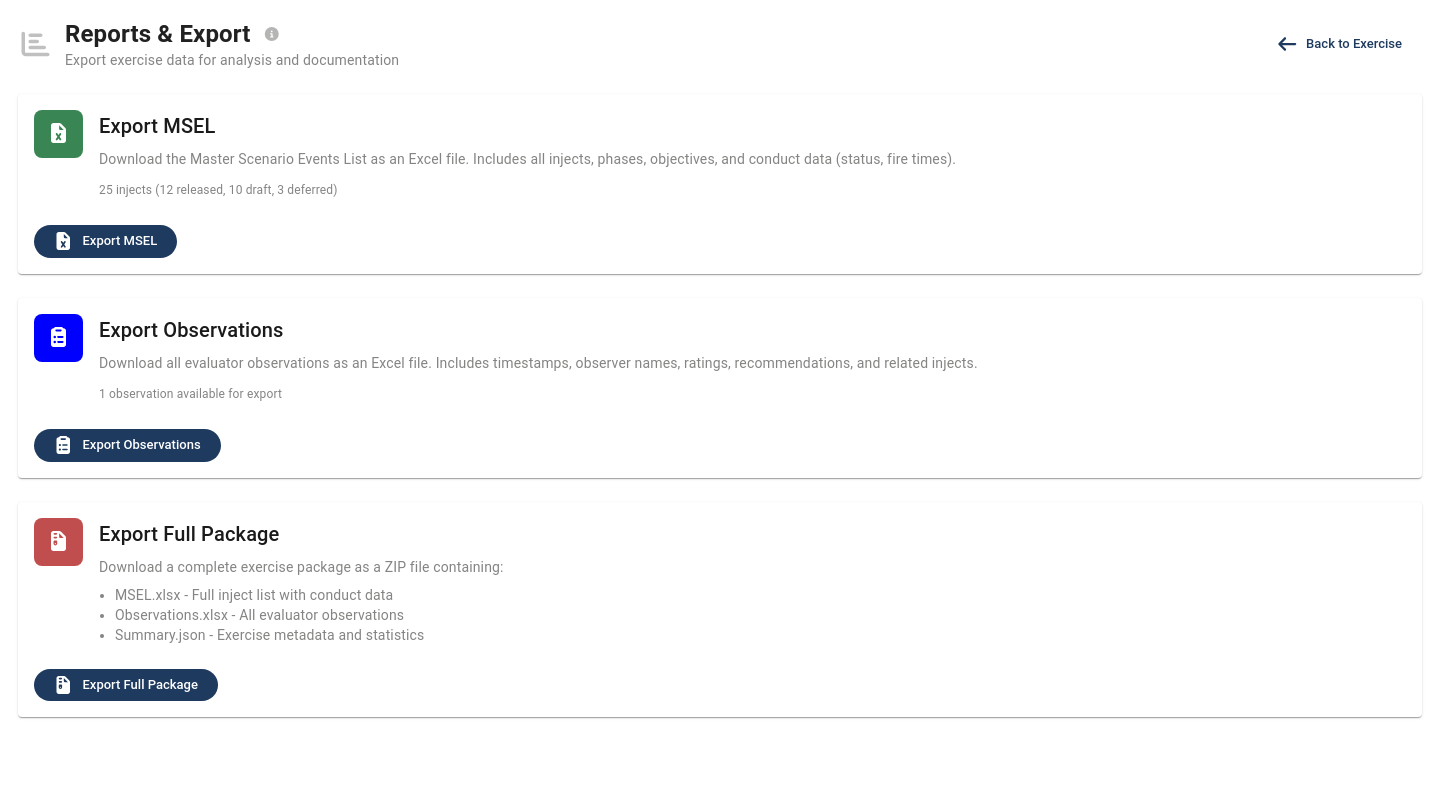
Scenario: ReportsPage › Observations Export › shows error alert when Observations export fails
Click the button "Export Observations" at [127, 445], box [34,429,221,462]
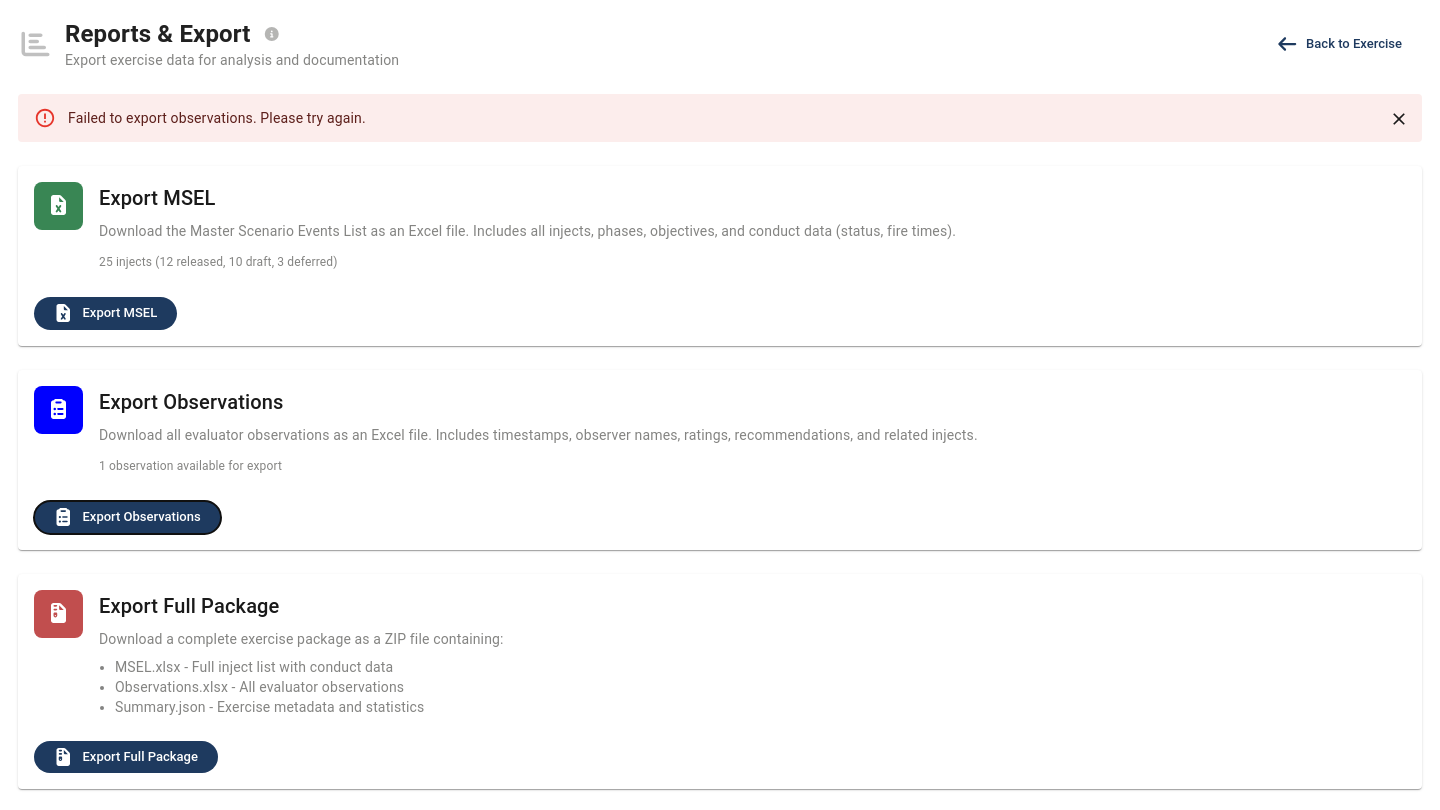
Now the text "Failed to export observations. Please try again." is shown, box [68,110,366,126]
